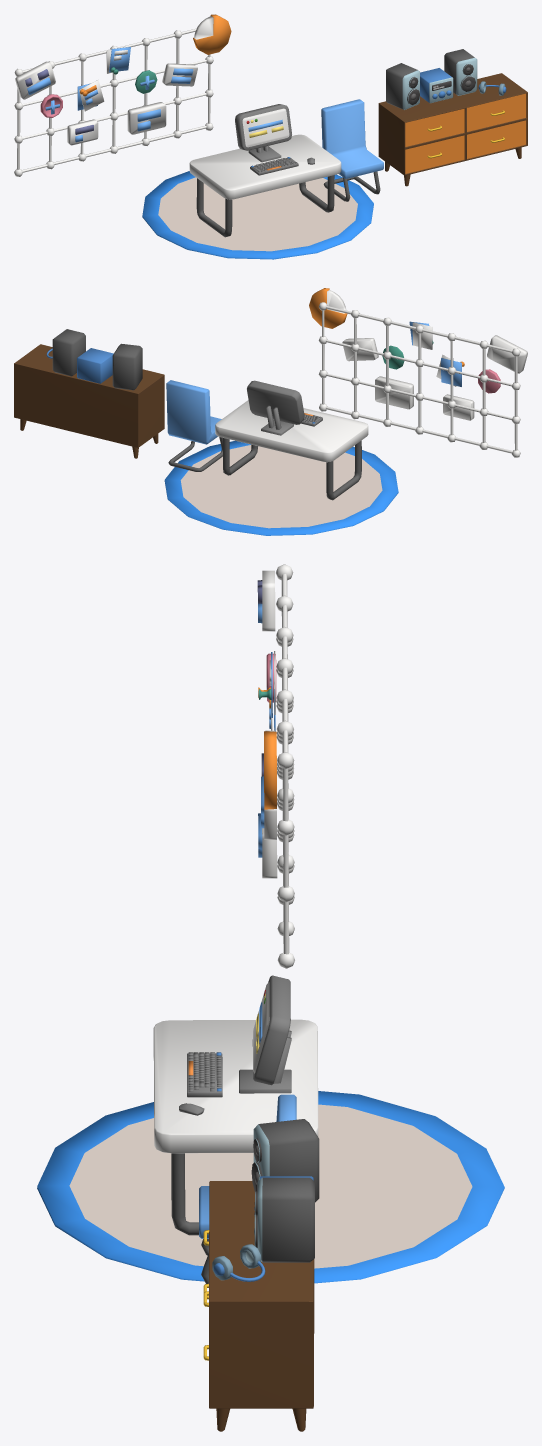
The model's file is Boy_Room_Props.fbx.
3 views of the same model, one above another, from view 1: azimuth 30°, elevation 25°; view 2: azimuth 150°, elevation 25°; view 3: azimuth 270°, elevation 25° (orthographic). The views are drawn at different scales.
Parts seen in each view (by area): view 1: Carpet_1, Note_2, Cabinet_01, Table_1, Chair_1, Monitor_1, Music_column_2, Music_column_1, Music_station_1, Keyboard_1; view 2: Carpet_1, Note_2, Cabinet_01, Table_1, Chair_1, Monitor_1, Music_column_2, Music_column_1, Music_station_1; view 3: Carpet_1, Cabinet_01, Table_1, Note_2, Music_column_1, Monitor_1, Music_column_2, Keyboard_1, Chair_1, Headphones_1.
Part boxes in pixels (x1=…): Carpet_1: x1=142, y1=171, x2=373, y2=259; Note_2: x1=14, y1=14, x2=231, y2=176; Cabinet_01: x1=378, y1=73, x2=527, y2=186; Table_1: x1=189, y1=134, x2=341, y2=237; Chair_1: x1=321, y1=99, x2=383, y2=201; Monitor_1: x1=235, y1=104, x2=291, y2=162; Music_column_2: x1=386, y1=63, x2=419, y2=109; Music_column_1: x1=444, y1=49, x2=477, y2=95; Music_station_1: x1=420, y1=68, x2=453, y2=103; Keyboard_1: x1=250, y1=157, x2=298, y2=175; Carpet_1: x1=164, y1=440, x2=398, y2=535; Note_2: x1=309, y1=288, x2=527, y2=457; Cabinet_01: x1=14, y1=344, x2=164, y2=458; Table_1: x1=215, y1=400, x2=368, y2=500; Chair_1: x1=166, y1=380, x2=222, y2=471; Monitor_1: x1=247, y1=380, x2=304, y2=435; Music_column_2: x1=112, y1=343, x2=142, y2=390; Music_column_1: x1=52, y1=329, x2=85, y2=376; Music_station_1: x1=77, y1=348, x2=113, y2=383; Carpet_1: x1=37, y1=1091, x2=504, y2=1283; Cabinet_01: x1=203, y1=1181, x2=314, y2=1431; Table_1: x1=153, y1=1019, x2=318, y2=1235; Note_2: x1=257, y1=564, x2=294, y2=968; Music_column_1: x1=254, y1=1177, x2=314, y2=1262; Monitor_1: x1=239, y1=975, x2=291, y2=1093; Music_column_2: x1=251, y1=1119, x2=319, y2=1202; Keyboard_1: x1=187, y1=1052, x2=222, y2=1097; Chair_1: x1=199, y1=1094, x2=296, y2=1283; Headphones_1: x1=212, y1=1244, x2=265, y2=1281.
Size of the model in its own units: 763 by 303 by 311.
